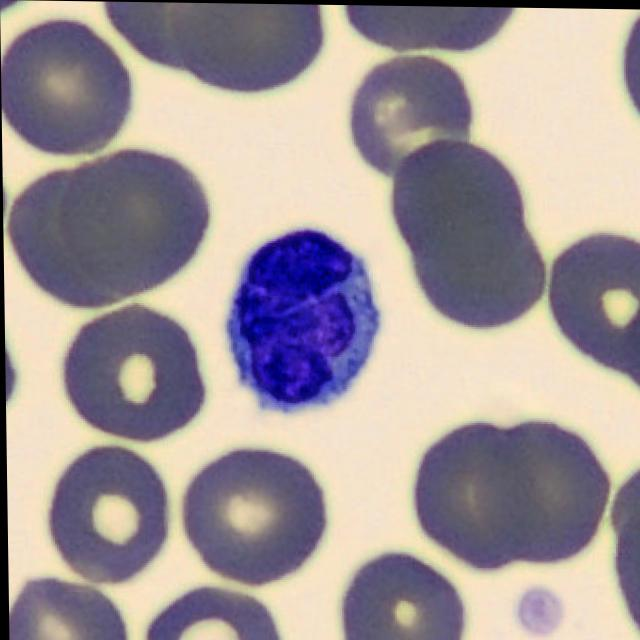Neutrofilo segmentado: (230, 231, 376, 404)
